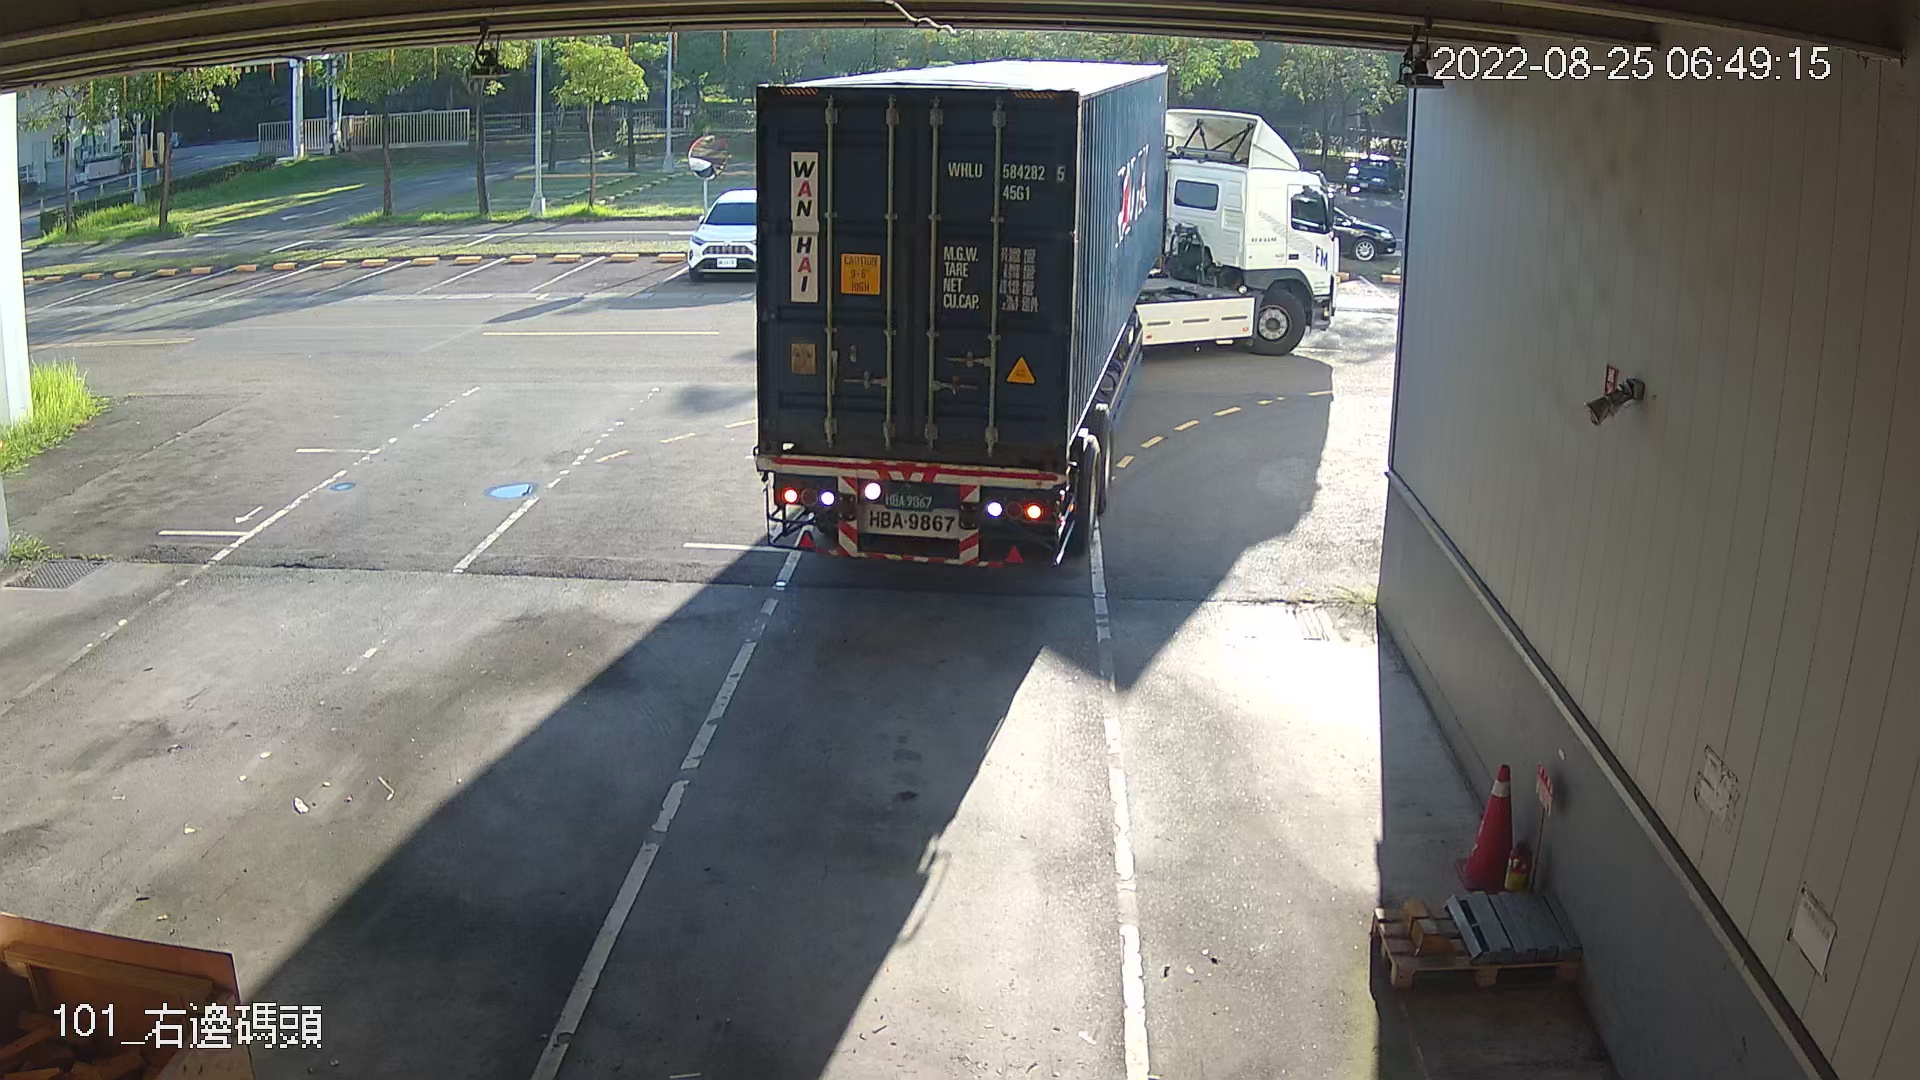container: (939, 152, 1073, 207)
